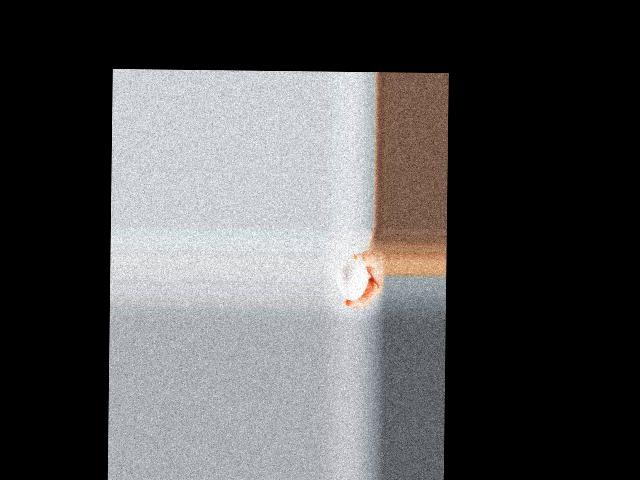egg: (336, 259, 368, 300)
